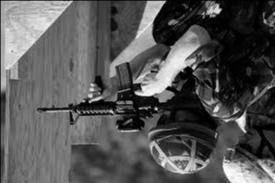gun: (37, 63, 204, 129)
